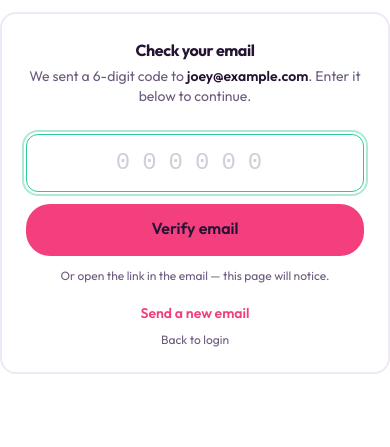
Test: code entry › recovers the server's own wording from a non-2xx response
This screenshot has width=390, height=447.
Type "999999" into the field named "Verification code".
click(195, 163); type("999999")  # box [26,134,364,192]
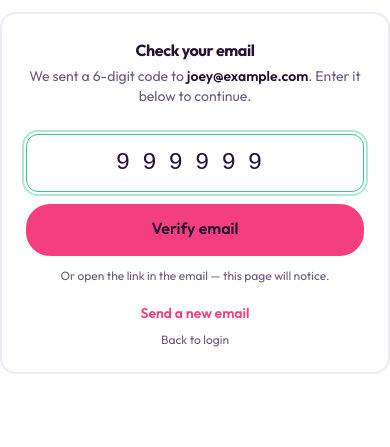
Click the button "Verify email".
click(195, 228)  # box [26,204,364,252]
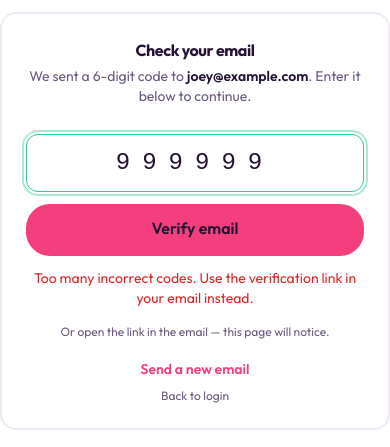
Expected: the text "Use the verification link" is shown, [34,269,356,307]
